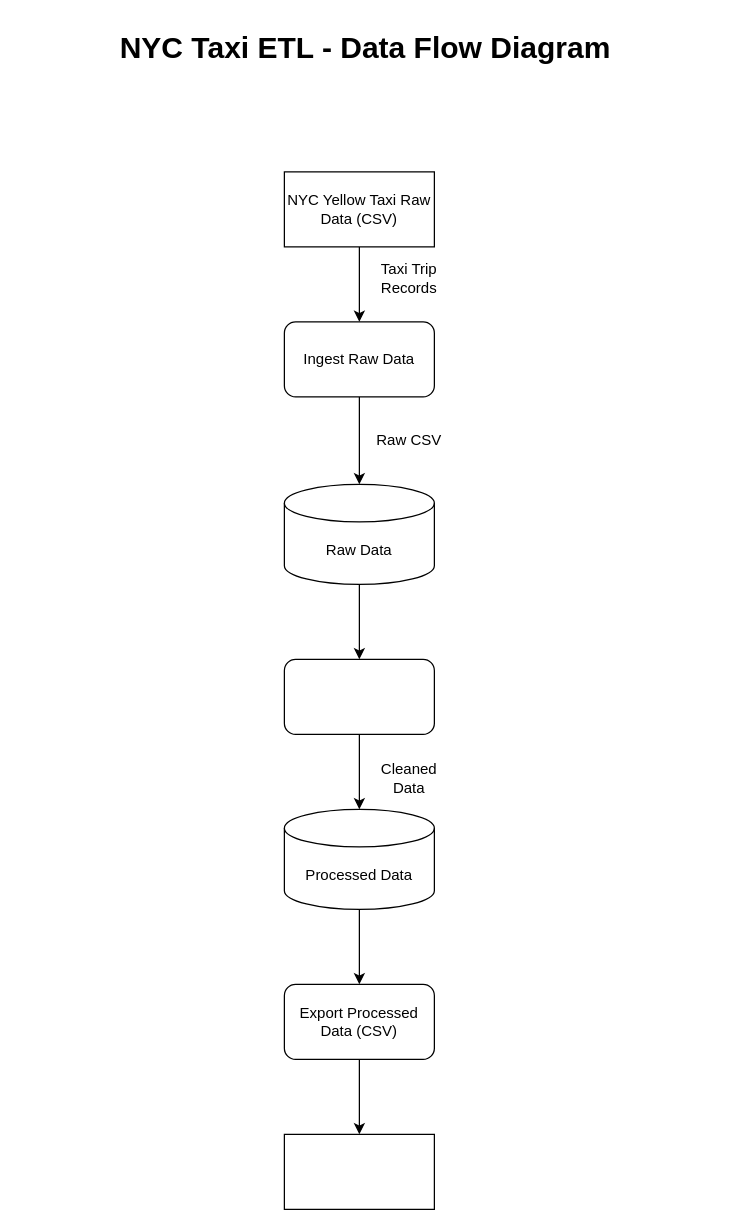
This 730x1231 diagram has some shape labels left out. Here are the shapes that lost their labels. From the top down, the box of each, then its label:
(283, 658, 434, 734): Transform Data
(283, 1133, 434, 1209): Power BI Dashboard
